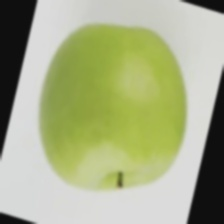apple: (32, 42, 180, 190)
